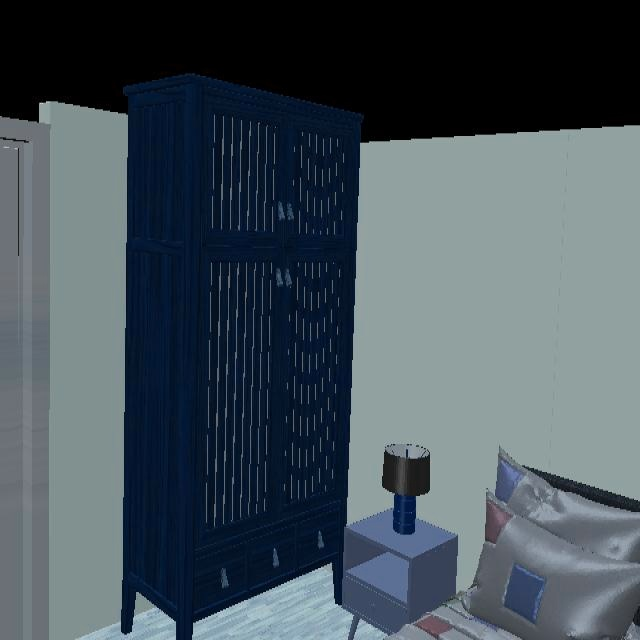lamp: (379, 443, 432, 540)
nighttable: (341, 512, 461, 636)
pillow: (414, 453, 640, 640)
wardrobe: (122, 75, 364, 640)
